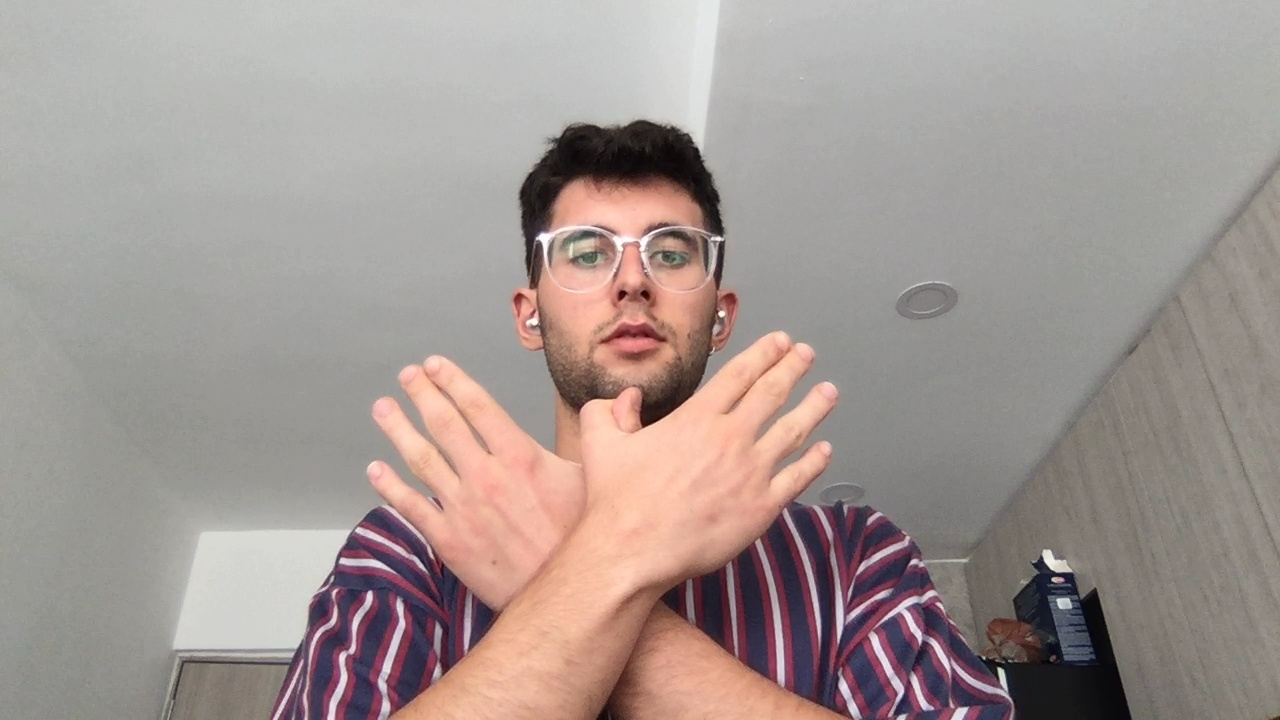ThankYou: (359, 327, 844, 622)
